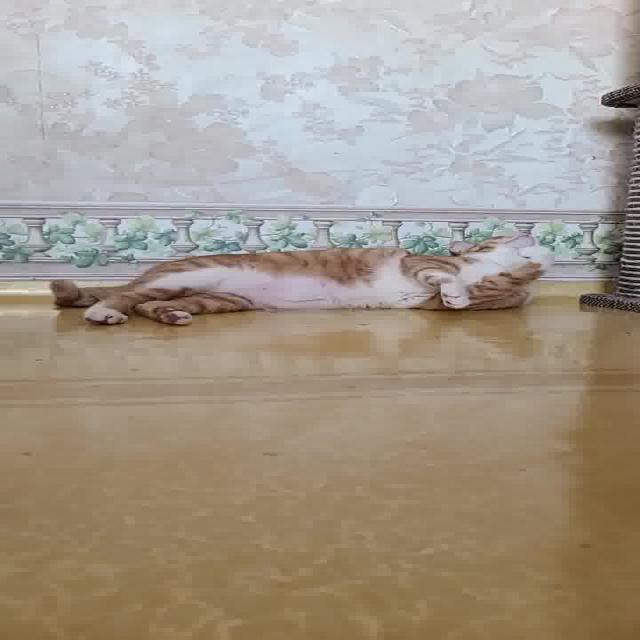cat: (35, 221, 568, 340)
